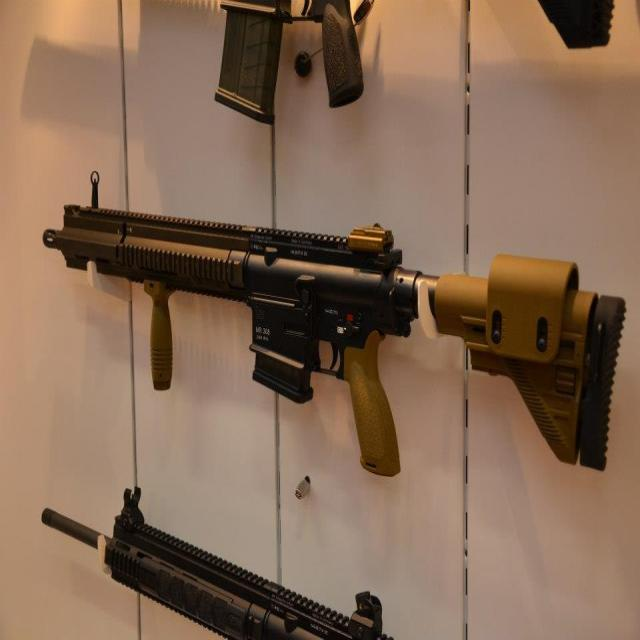firearm: (42, 170, 627, 478), (40, 485, 395, 640), (212, 0, 616, 127)
